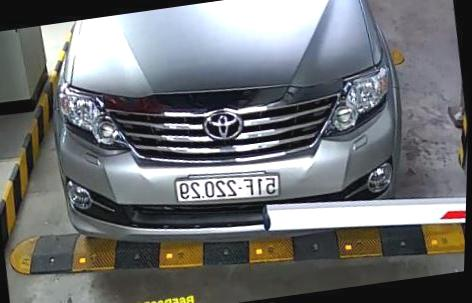License_Plate: (174, 173, 282, 205)
